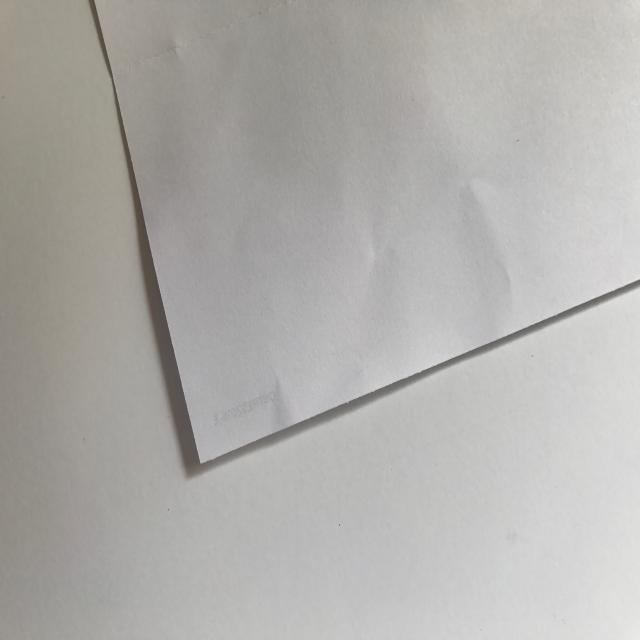paper: (92, 2, 638, 470)
